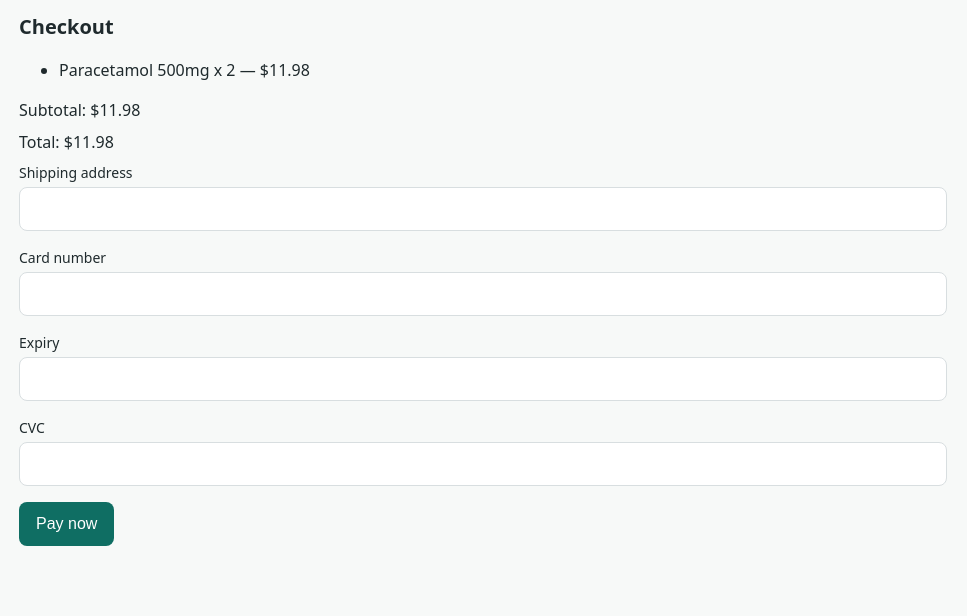
Test: CheckoutPage › shows an error and preserves the form when the checkout request fails outright
Type "1 Example St" into the field labelled "Shipping address" at [483, 209], box [19,187,947,231]
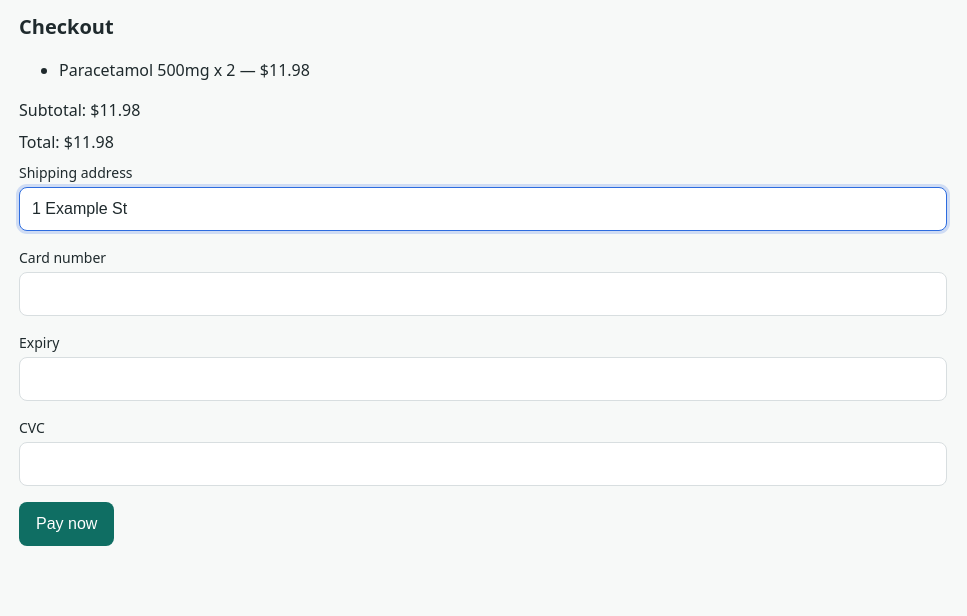
Type "4111111111111111" into the field labelled "Card number" at [483, 294], box [19,272,947,316]
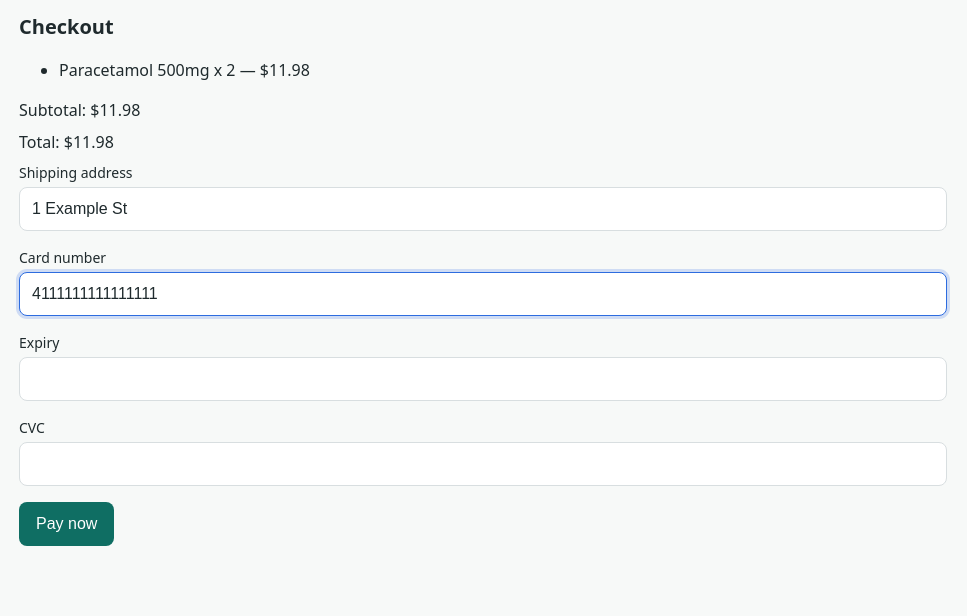
Type "12/30" into the field labelled "Expiry" at [483, 379], box [19,357,947,401]
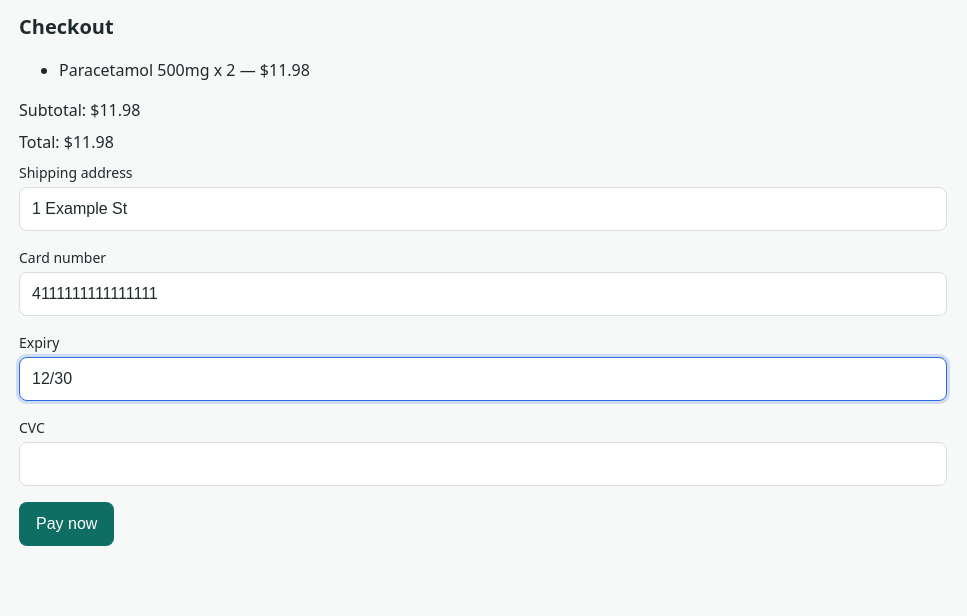
Type "123" into the field labelled "CVC" at [483, 464], box [19,442,947,486]
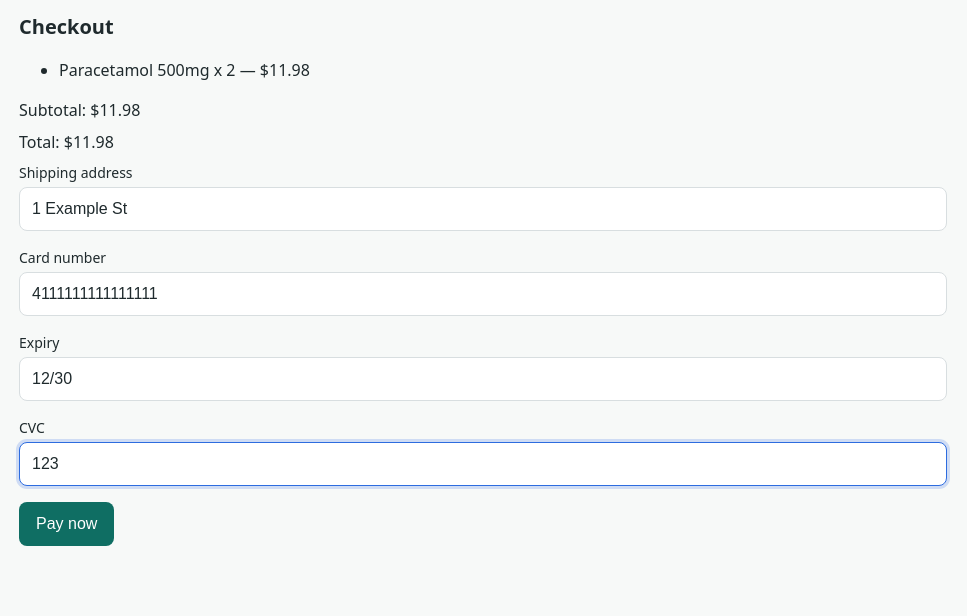
Click the button "Pay now" at [67, 524], box [19,502,114,546]
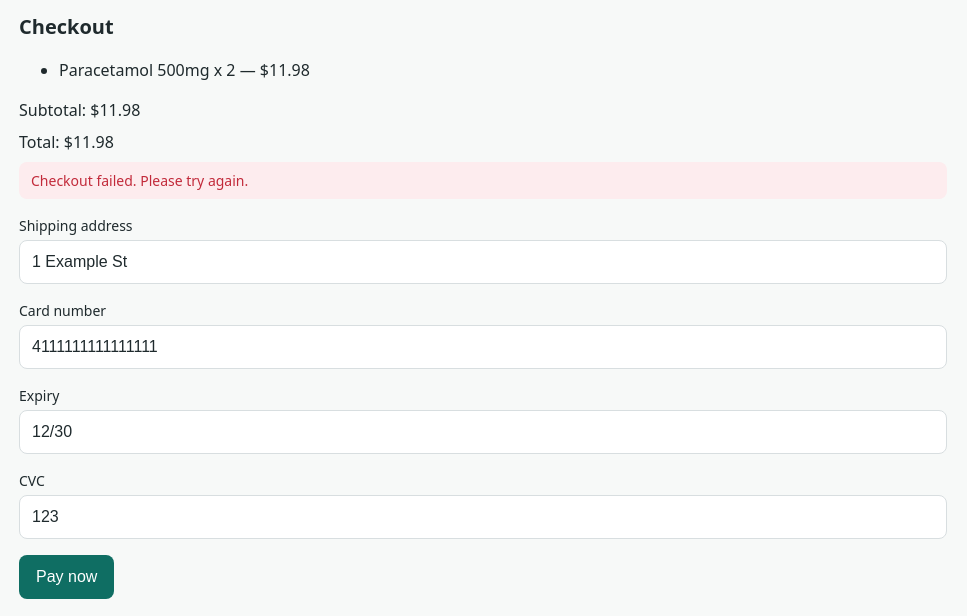
Check: the message reads "Checkout failed. Please try again.", box [31,171,248,190]
